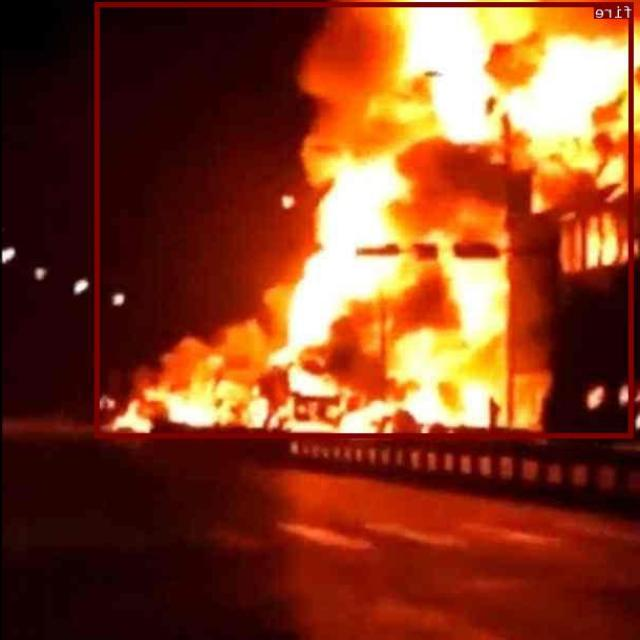fire: (96, 2, 634, 437)
